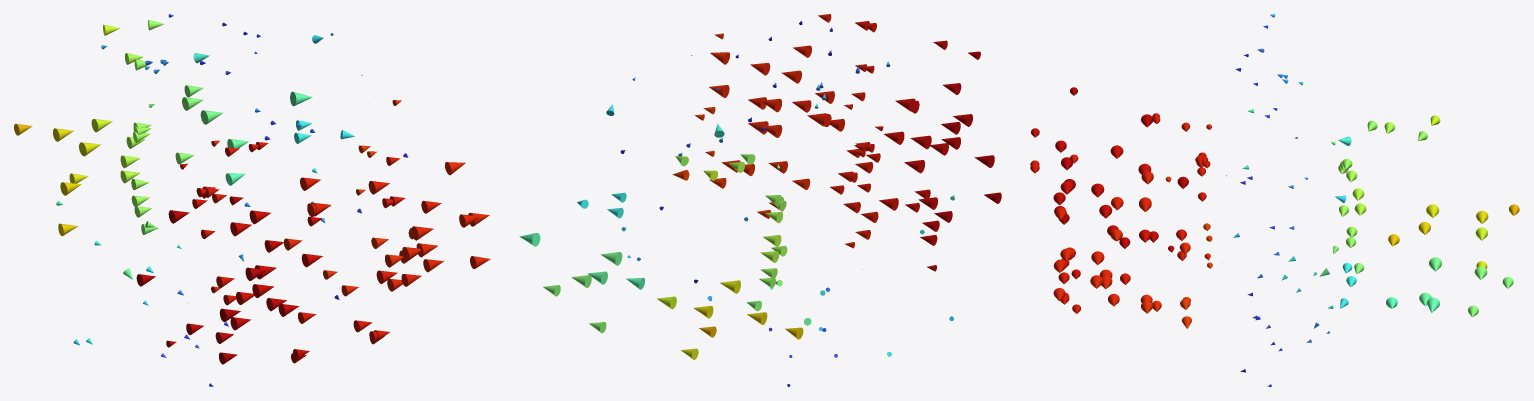
The model's file is LineasCorrienteH2-O2_mh2-5.58_V-1.glb.
3 renders of one model, left to right at view 1: azimuth 30°, elevation 25°; view 2: azimuth 150°, elevation 25°; view 3: azimuth 270°, elevation 25°, orthographic. The views are drawn at different scales.
Bounding box in the file's own units: 0.000926 × 0.000952 × 0.00123.
Materials: 2 (2 with a texture image).
